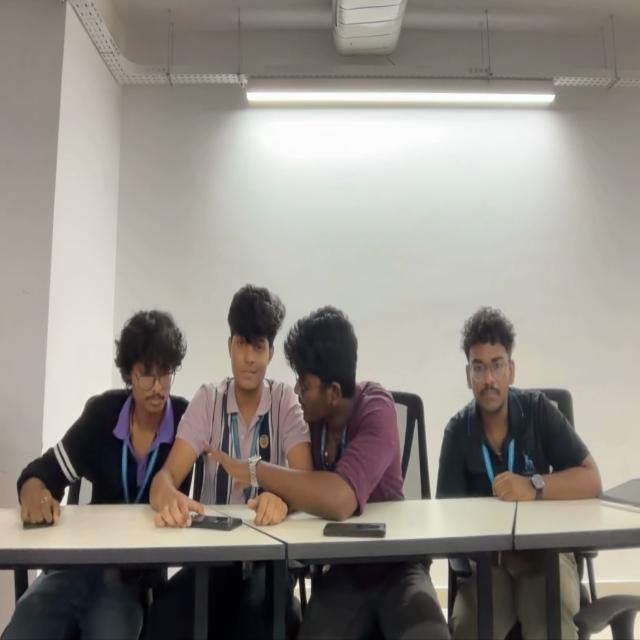Isolated: (438, 306, 599, 499)
socializing: (17, 281, 404, 508)
